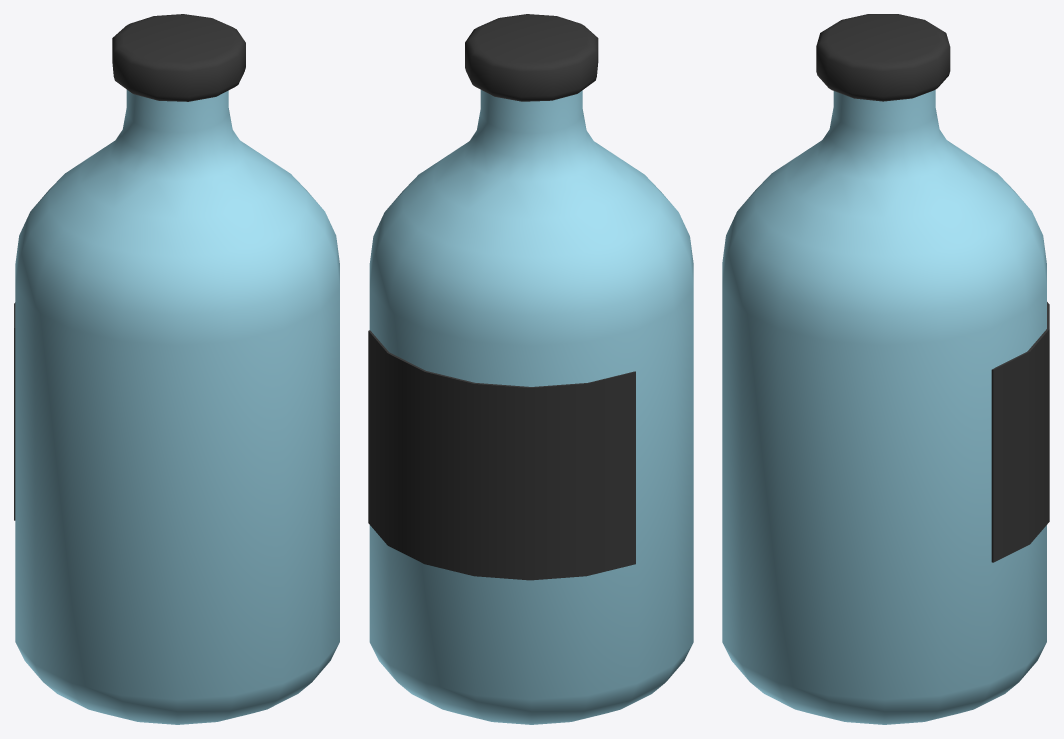
The model's file is SM_Bubble_03.FBX.
The picture shows the model from 3 angles, left to right: view 1: azimuth 30°, elevation 25°; view 2: azimuth 150°, elevation 25°; view 3: azimuth 270°, elevation 25°; orthographic projection.
Visible parts, largest first — view 1: SM_Bubble_03_LOD0; view 2: SM_Bubble_03_LOD0; view 3: SM_Bubble_03_LOD0.
Boxes of the visible parts, <box> form: SM_Bubble_03_LOD0: <box>14,14,339,724</box>; SM_Bubble_03_LOD0: <box>368,14,693,724</box>; SM_Bubble_03_LOD0: <box>722,14,1049,724</box>.
Size of what is drawn, in the model's own units: 8.44 by 8.38 by 18.
